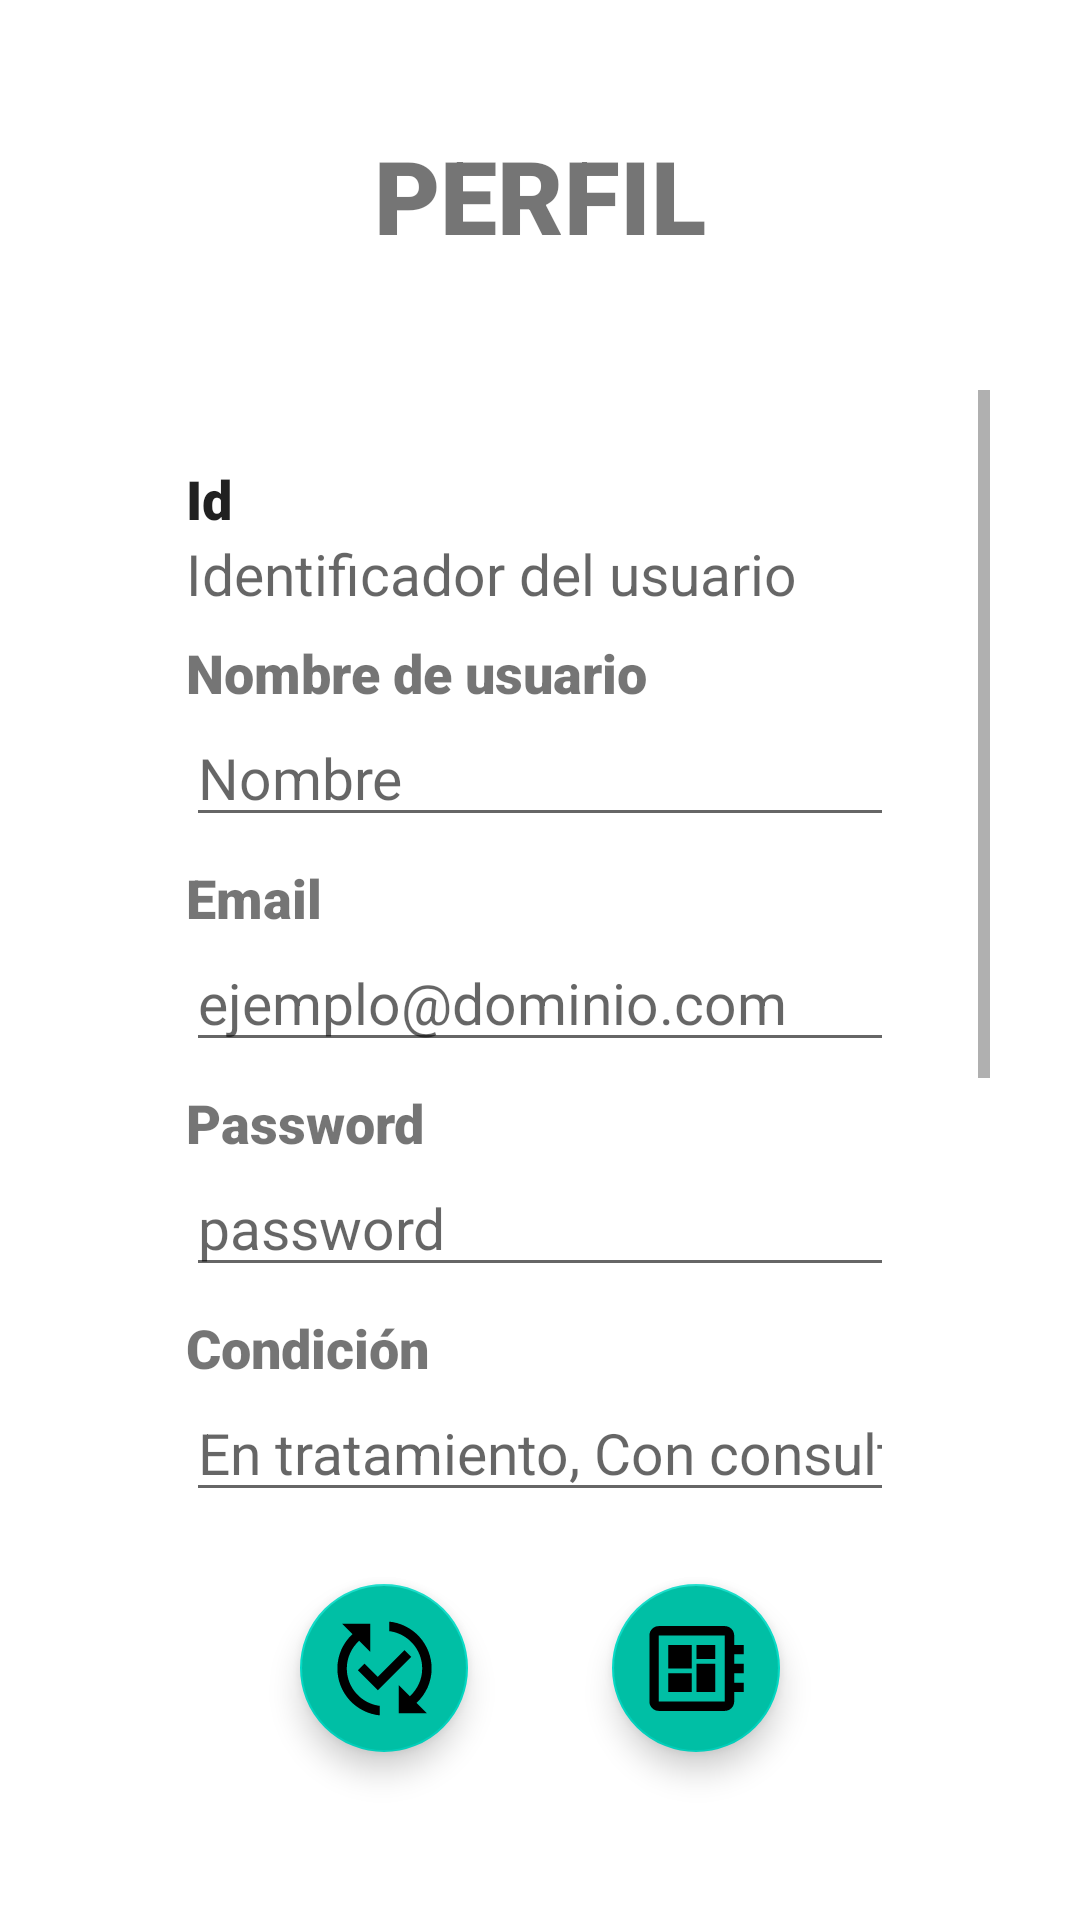

Icon bounding boxes for this 1080*1920 phone screenshot, format bbox=(x1, y1, x2, y2):
confirm: bbox=(300, 1584, 468, 1752)
news: bbox=(612, 1584, 780, 1752)
